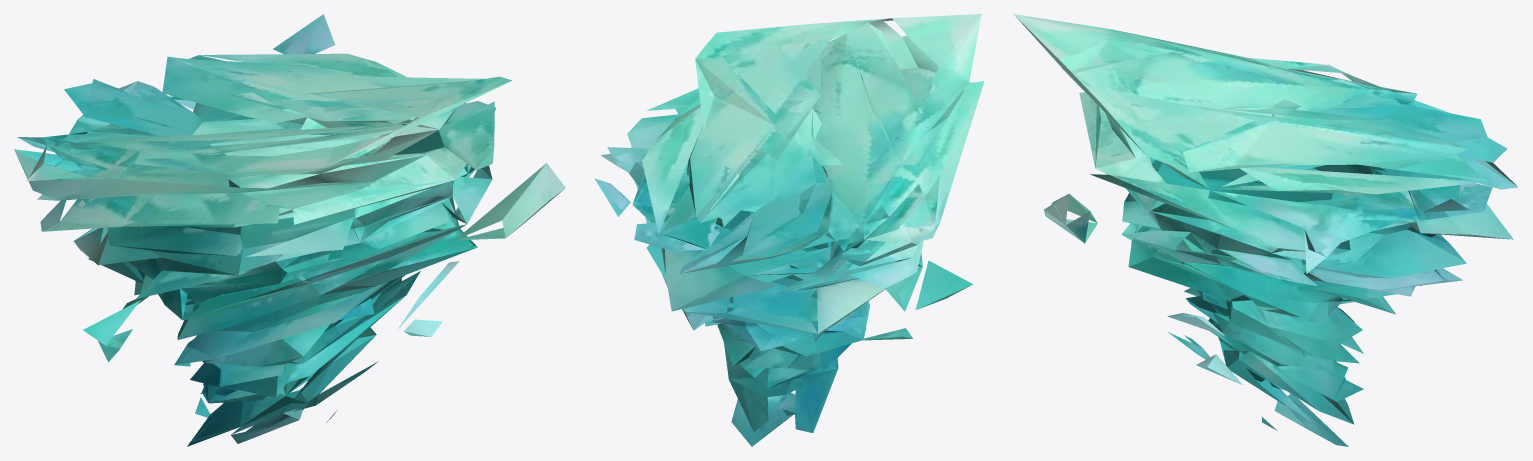
The model's file is 旋風暴風.glb.
3 views of the same model, side by side, from view 1: azimuth 30°, elevation 25°; view 2: azimuth 150°, elevation 25°; view 3: azimuth 270°, elevation 25° (orthographic). The views are drawn at different scales.
Visible parts, largest first — view 1: geometry_0; view 2: geometry_0; view 3: geometry_0.
Part boxes in pixels (bbox=[...]): geometry_0: bbox=[14, 14, 565, 446]; geometry_0: bbox=[594, 14, 984, 446]; geometry_0: bbox=[1013, 14, 1518, 446].
Size of the model in its own units: 0.8893 by 0.8485 by 1.
1 material, 1 textured.
